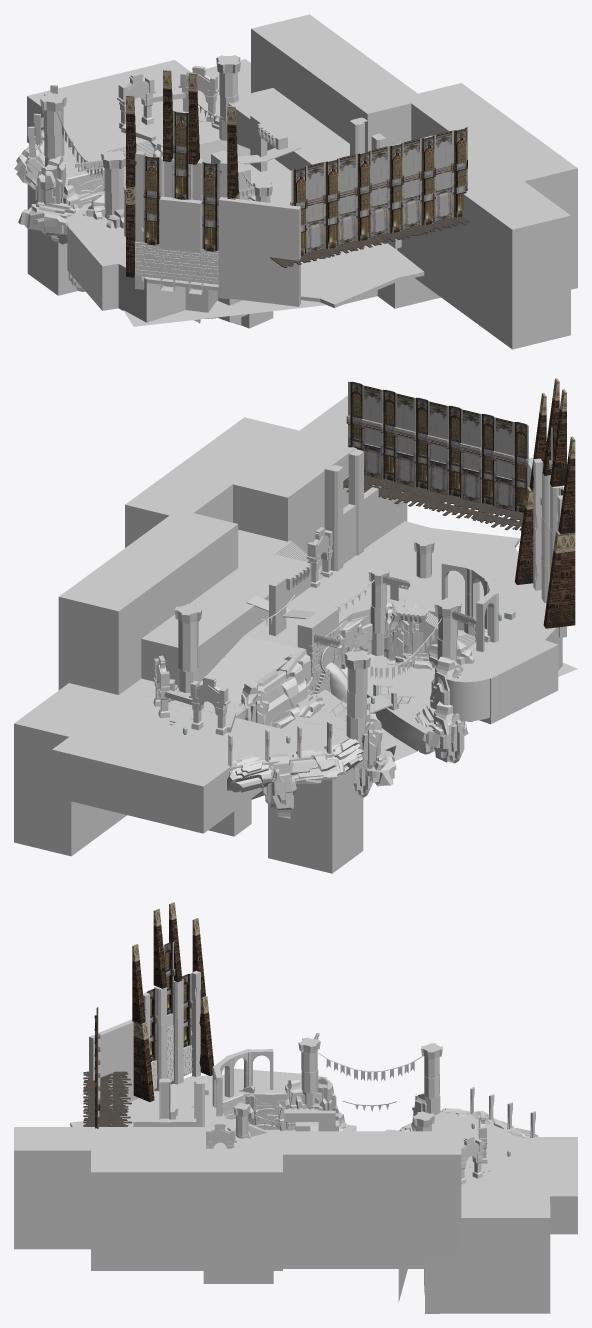
The model's file is Block_Out_FPS.fbx.
The picture shows the model from 3 angles, top to bottom: view 1: azimuth 30°, elevation 25°; view 2: azimuth 150°, elevation 25°; view 3: azimuth 270°, elevation 25°; orthographic projection. The views are drawn at different scales.
Parts seen in each view (by area): view 1: Cube__18_, Cube.094, Cube.131, Cube.130, Cube.128, Cube.129, Cube.093, Cube.092, Cube.100, Cube.117, Cube.119, Cube.112 (+30 smaller); view 2: Cube__18_, Cube.031, Cube.122, Cube.117, Cube.116, Cube.119, Cube.112, Cube.123, Cube.114, Cube.120, Cube.115, Cube.107 (+32 smaller); view 3: Cube__18_, Cube.131, Cube.046, Cube.108, Cube.110, Cube.106, Cube.104, Cube.130, Cube.093, Cube.015, Cube.111, Cylinder.002 (+6 smaller).
Part boxes in pixels (x1,y1,x2,y2): Cube__18_: (27, 14, 577, 349); Cube.094: (159, 196, 201, 252); Cube.131: (259, 202, 300, 258); Cube.130: (218, 197, 260, 253); Cube.128: (218, 248, 258, 301); Cube.129: (259, 253, 300, 306); Cube.093: (143, 155, 161, 245); Cube.092: (202, 162, 219, 251); Cube.100: (172, 111, 190, 199); Cube.117: (306, 162, 323, 252); Cube.119: (370, 146, 387, 237); Cube.112: (387, 142, 403, 233); Cube__18_: (14, 395, 577, 873); Cube.031: (242, 668, 308, 725); Cube.122: (379, 389, 397, 482); Cube.117: (494, 417, 512, 510); Cube.116: (462, 409, 479, 502); Cube.119: (429, 401, 446, 494); Cube.112: (412, 397, 429, 490); Cube.123: (363, 385, 380, 478); Cube.114: (445, 405, 462, 498); Cube.120: (396, 393, 413, 486); Cube.115: (478, 413, 495, 506); Cube.107: (560, 532, 575, 626); Cube__18_: (14, 1068, 577, 1313); Cube.131: (89, 1026, 117, 1078); Cube.046: (254, 1090, 287, 1129); Cube.108: (153, 908, 167, 988); Cube.110: (132, 944, 145, 1023); Cube.106: (201, 996, 213, 1075); Cube.104: (141, 1022, 154, 1101); Cube.130: (114, 1019, 133, 1068); Cube.093: (182, 973, 192, 1047); Cube.015: (317, 1052, 422, 1081); Cube.111: (192, 918, 205, 997); Cylinder.002: (298, 1037, 320, 1072).
Bounding box in the file's own units: 11198 × 10237 × 16974.
